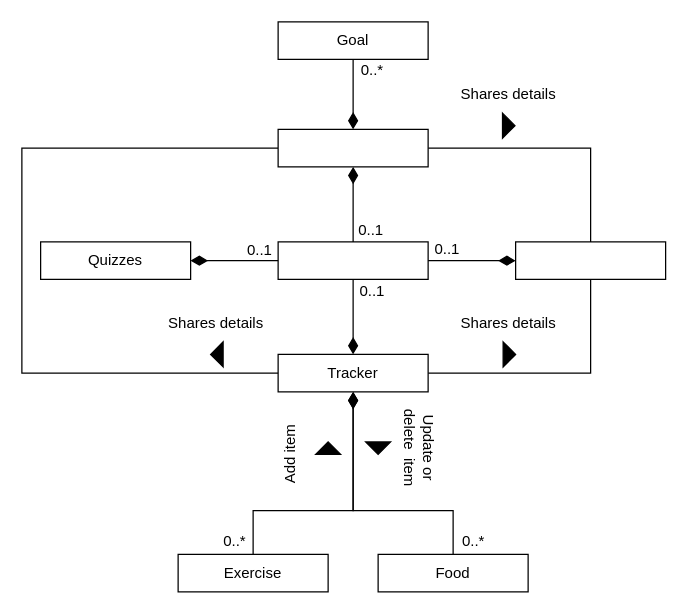
This 688x614 diagram has some shape labels left out. The box of each missing label's shape, as (x1, y1, x2, y2) in pixels:
Goals: (277, 128, 428, 167)
Recommendation: (514, 241, 666, 279)
User: (277, 241, 428, 279)
